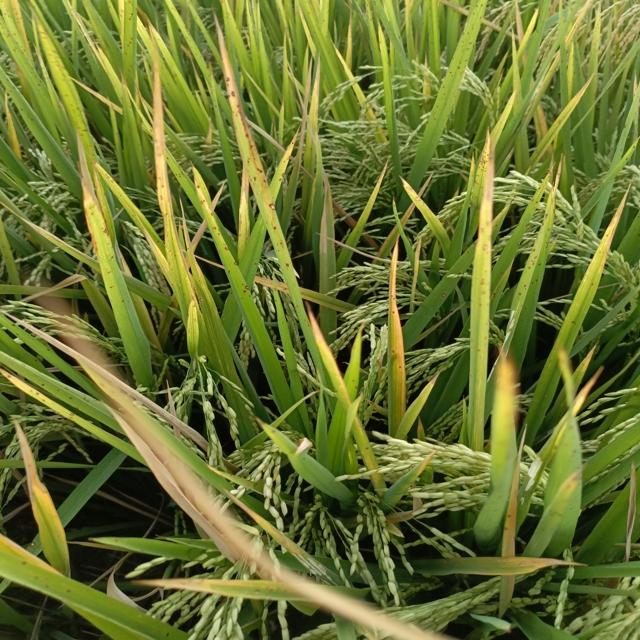Brown spot: (131, 565, 343, 615), (75, 129, 128, 289), (0, 414, 74, 509), (494, 420, 530, 613), (147, 27, 177, 235), (383, 231, 407, 423), (552, 364, 605, 443), (424, 554, 597, 578), (592, 181, 635, 265), (618, 458, 640, 563), (560, 337, 602, 390), (545, 465, 588, 516), (493, 342, 522, 414), (400, 172, 434, 220), (359, 155, 389, 209), (480, 134, 498, 208), (408, 235, 424, 300), (424, 368, 444, 394)
brown plant hopper: (316, 157, 337, 269)
insects: (210, 8, 298, 276), (190, 167, 255, 304), (511, 207, 553, 300), (476, 209, 494, 309), (390, 290, 397, 306), (396, 362, 405, 372), (390, 308, 399, 318), (440, 292, 450, 298), (391, 348, 397, 356)
